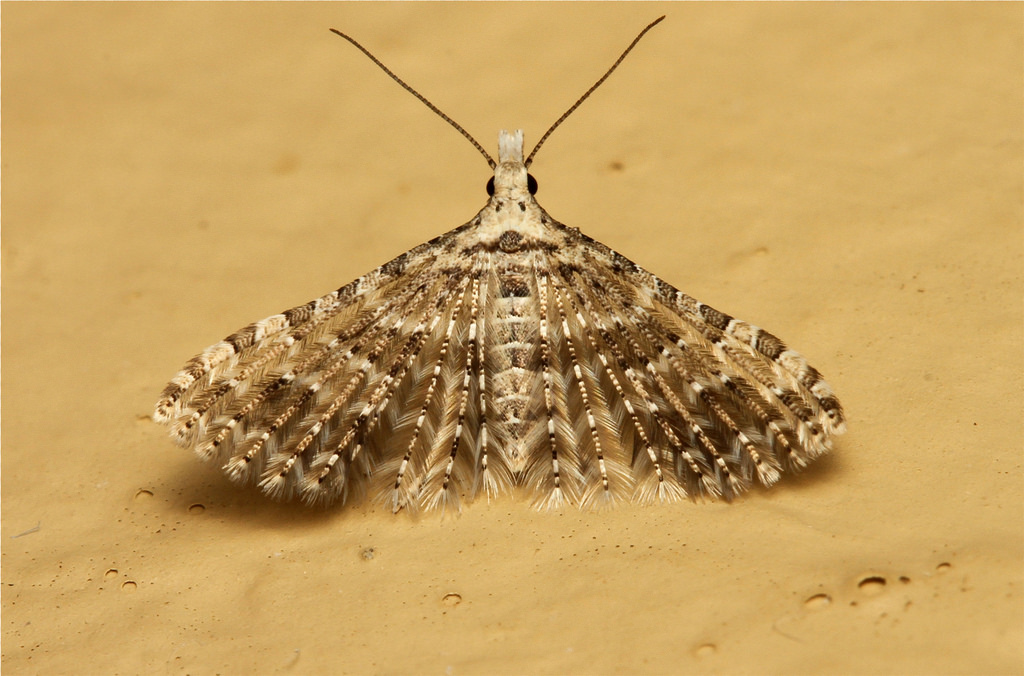Alucitidae: (147, 12, 874, 527)
moth: (145, 10, 872, 525)
